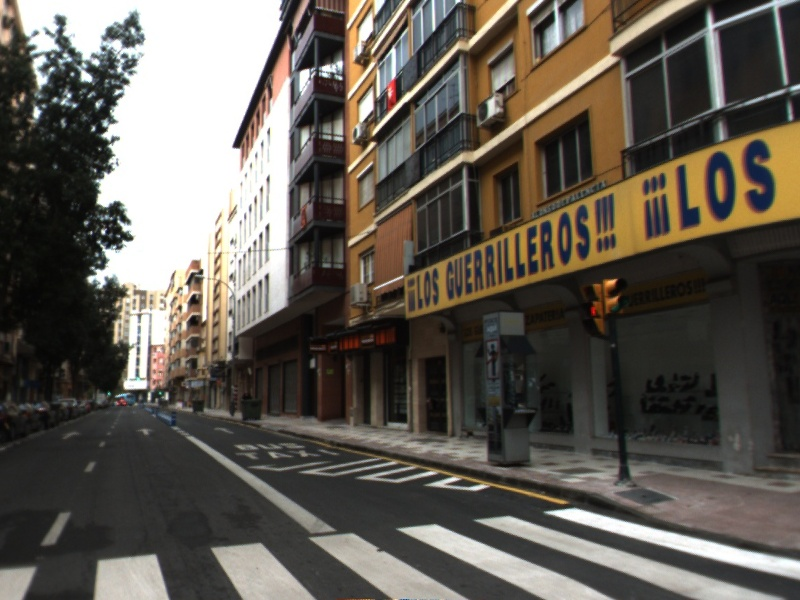STRAIGHT: (58, 428, 84, 442), (211, 424, 237, 436), (133, 426, 157, 437)
